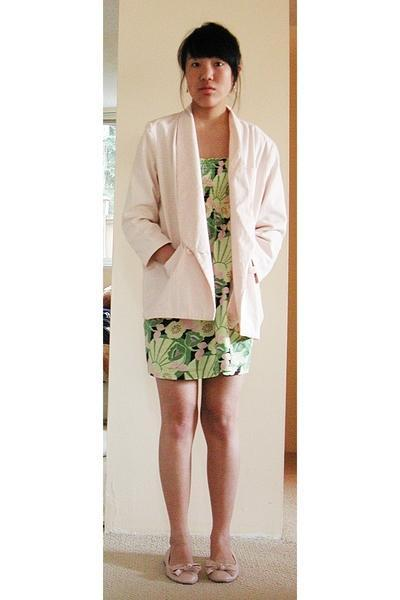dress: (144, 156, 251, 380)
jacket: (121, 114, 288, 337)
shoe: (172, 556, 203, 584)
